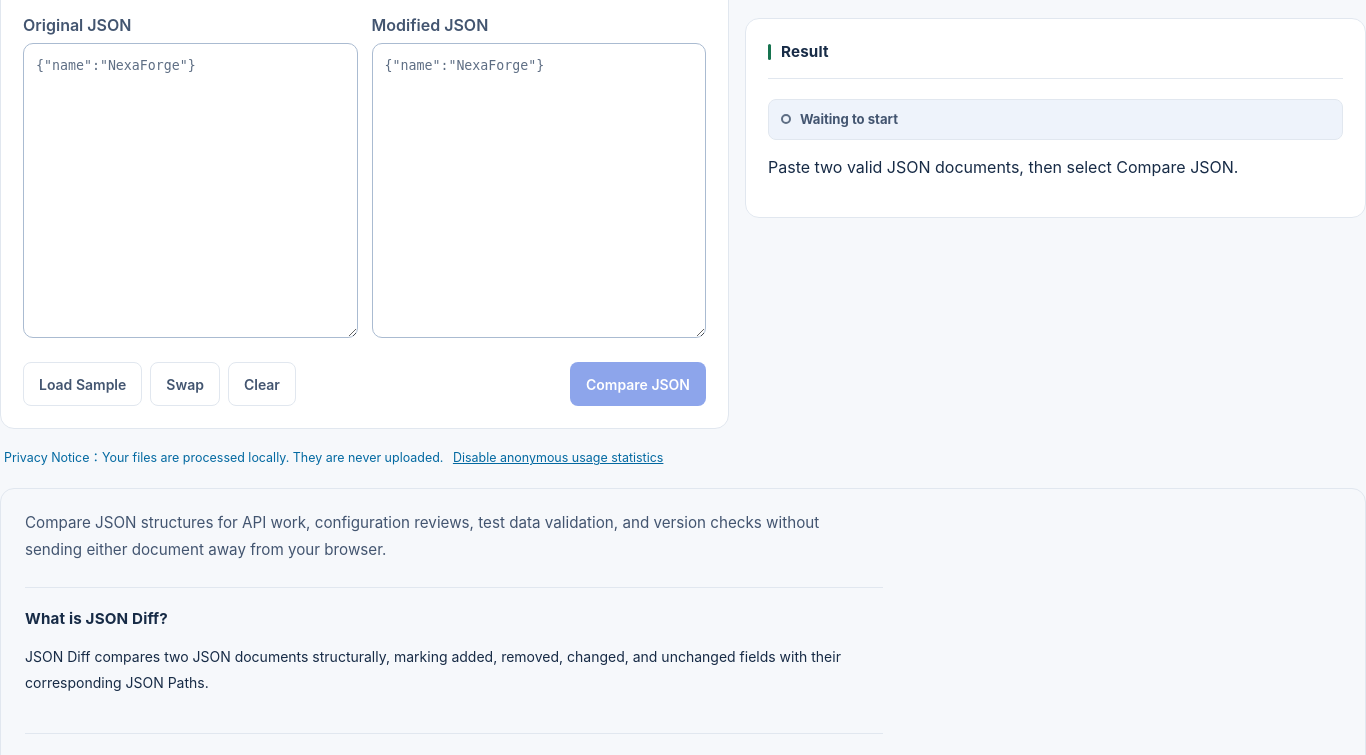
Test case: JsonDiffPage › loads a sample and renders structured semantic differences
(page scrolled)
What coordinates should you click on to do the following:
click the button "Load Sample"
I would click on:
 (83, 384)
Its box is [23,362,142,406].
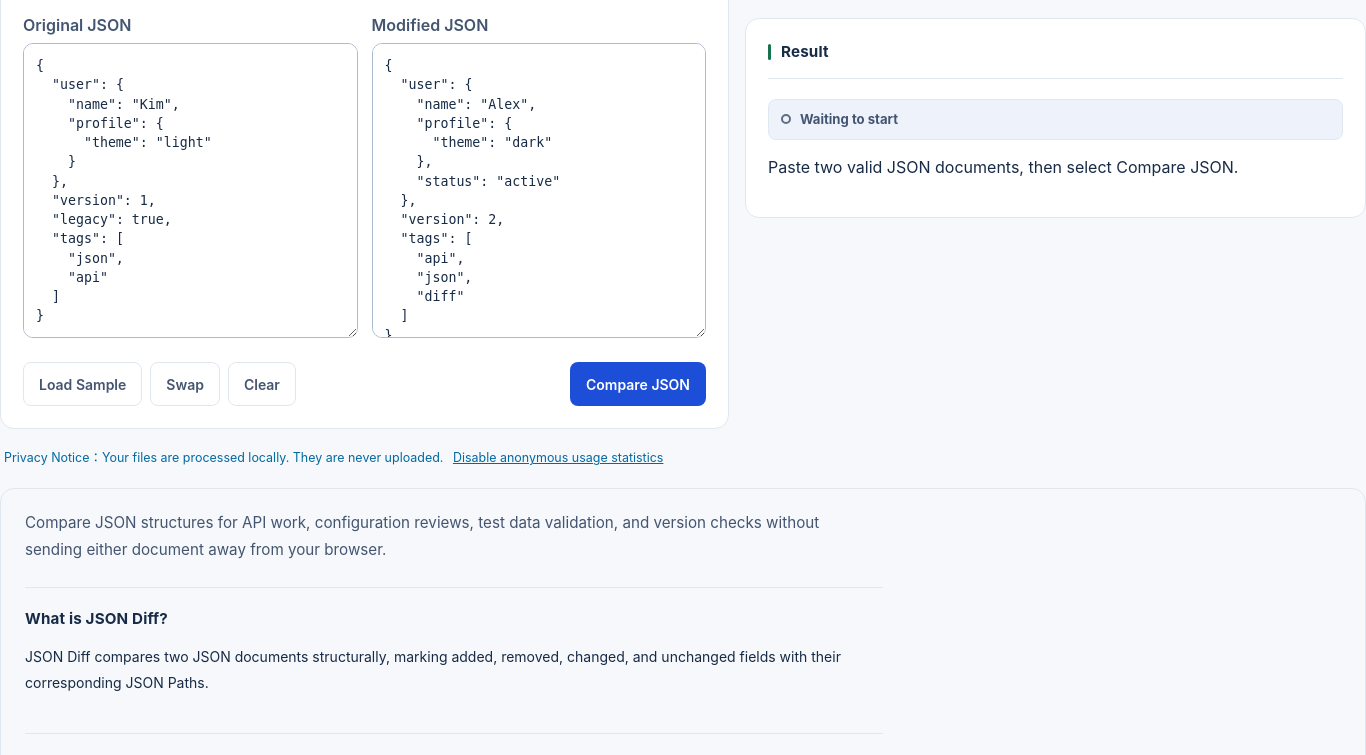
What coordinates should you click on to do the following:
click the button "Compare JSON"
I would click on:
 (638, 384)
Its box is [570,362,706,406].
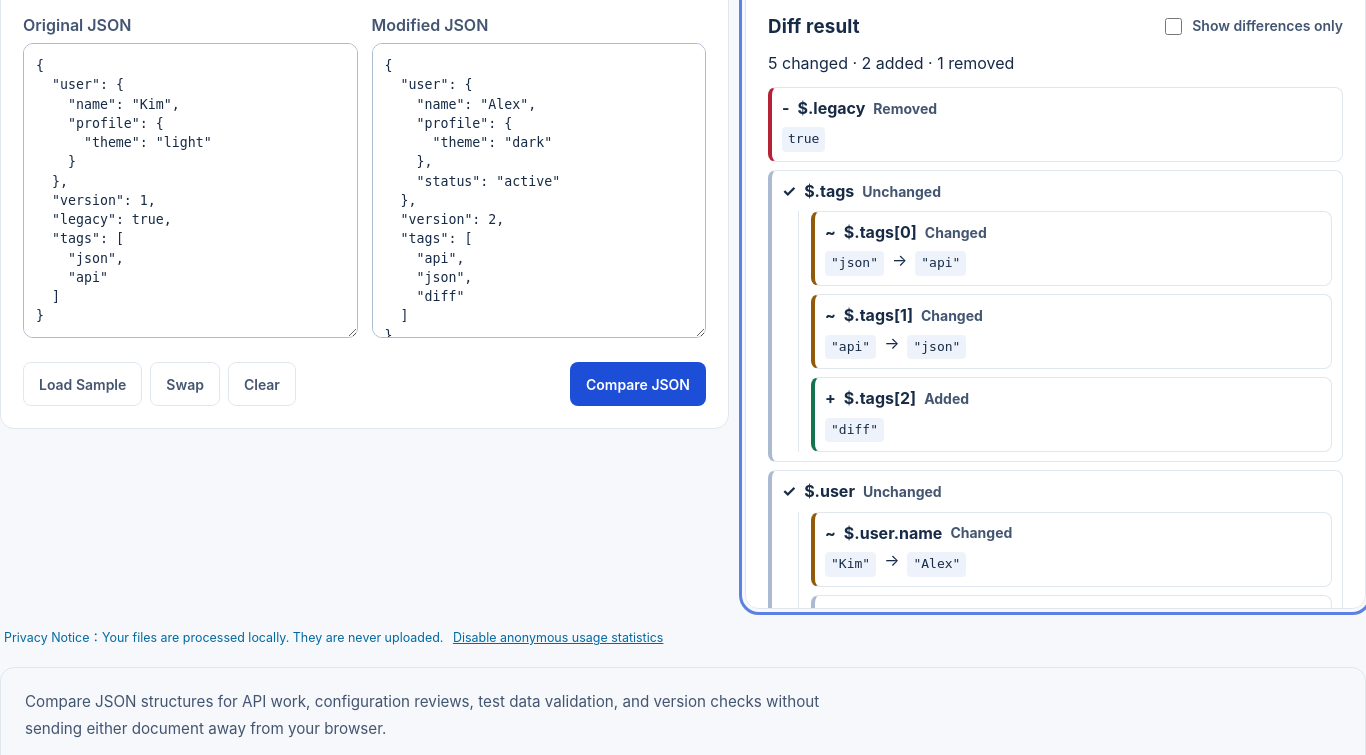
expect the text "5 changed · 2 added · 1 removed" is shown: met, box [768,53,1014,73]
expect the text "$.legacy" is shown: met, box [798,97,865,120]
expect the text "$.user.name" is shown: met, box [844,522,942,545]
